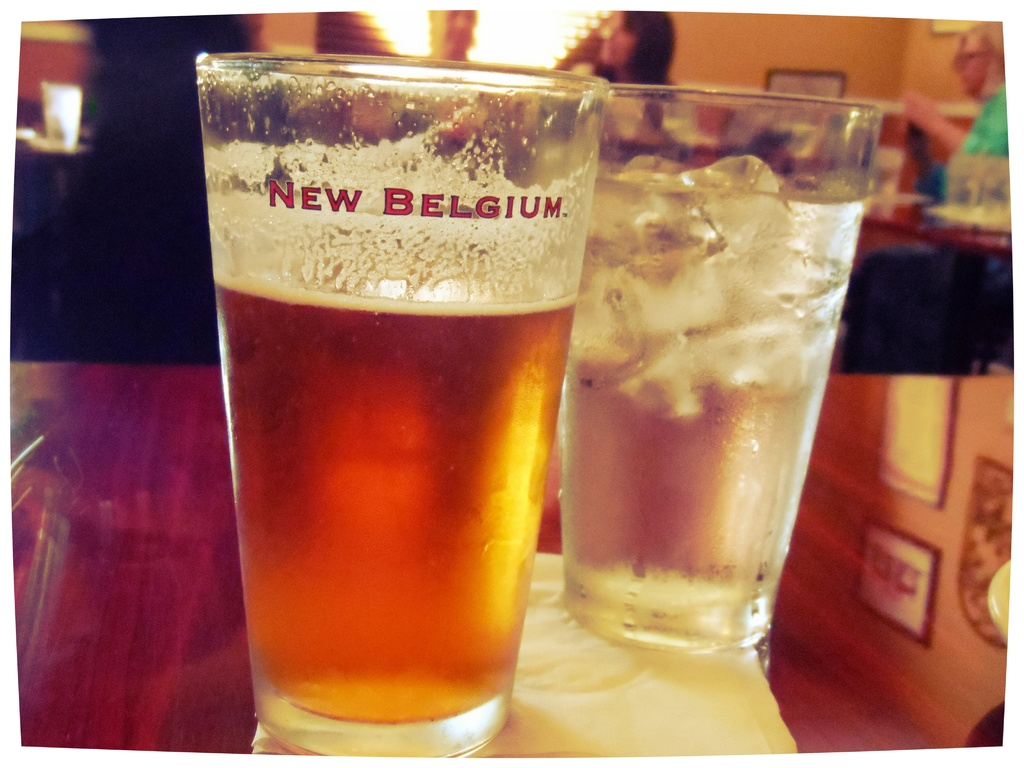Beer: (195, 52, 610, 757)
